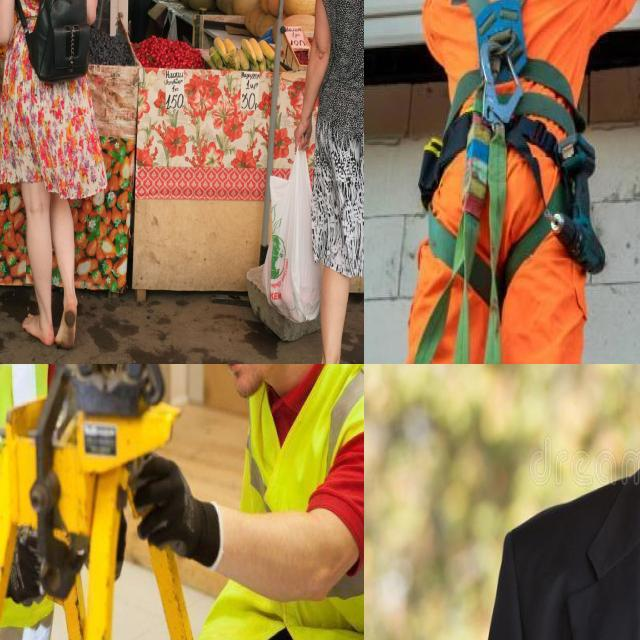Barefoots: (22, 313, 55, 346), (55, 304, 77, 350)
Harness: (415, 0, 605, 364)
face_nomask: (200, 364, 281, 394)
hand_glove: (128, 451, 198, 555)
person: (198, 364, 364, 640)
vest: (223, 383, 364, 640), (0, 364, 60, 640)
